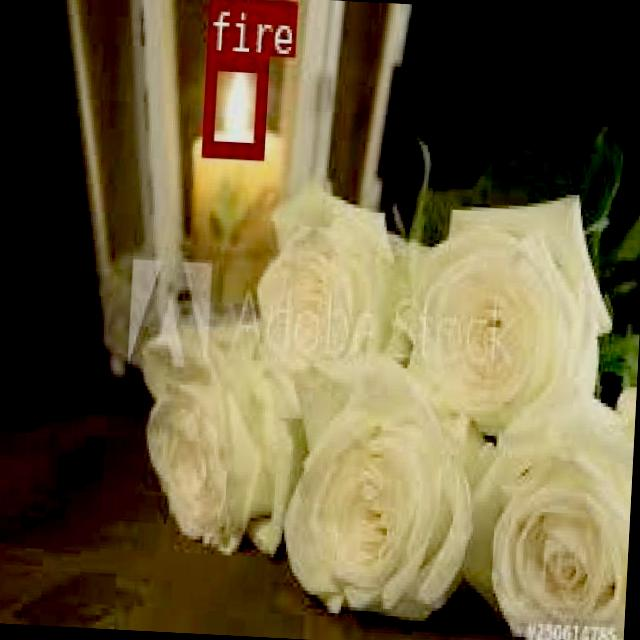fire: (202, 52, 266, 155)
